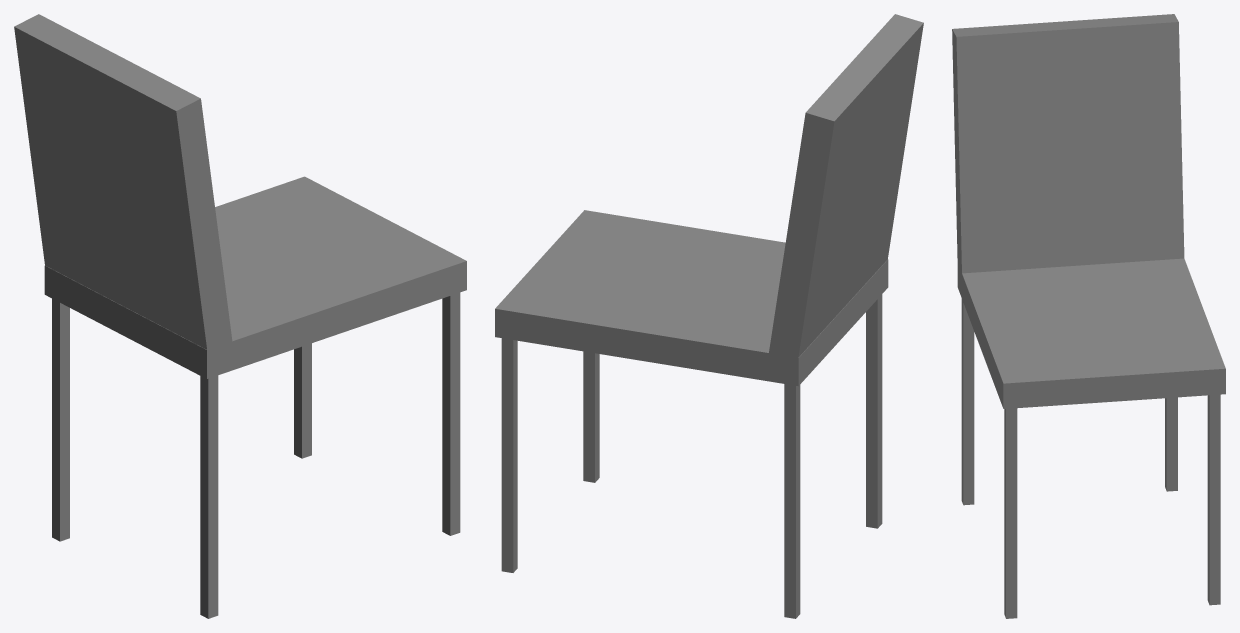
Rendered from Chair.fbx.
3 renders of one model, left to right at view 1: azimuth 30°, elevation 25°; view 2: azimuth 150°, elevation 25°; view 3: azimuth 270°, elevation 25°, orthographic. The views are drawn at different scales.
Parts seen in each view (by area): view 1: Chair; view 2: Chair; view 3: Chair.
Boxes of the visible parts, x1,y1,x2,y2 form: Chair: (14, 14, 466, 618); Chair: (495, 14, 923, 618); Chair: (952, 14, 1225, 618).
Size of the model in its own units: 63.69 by 90.01 by 48.63.
